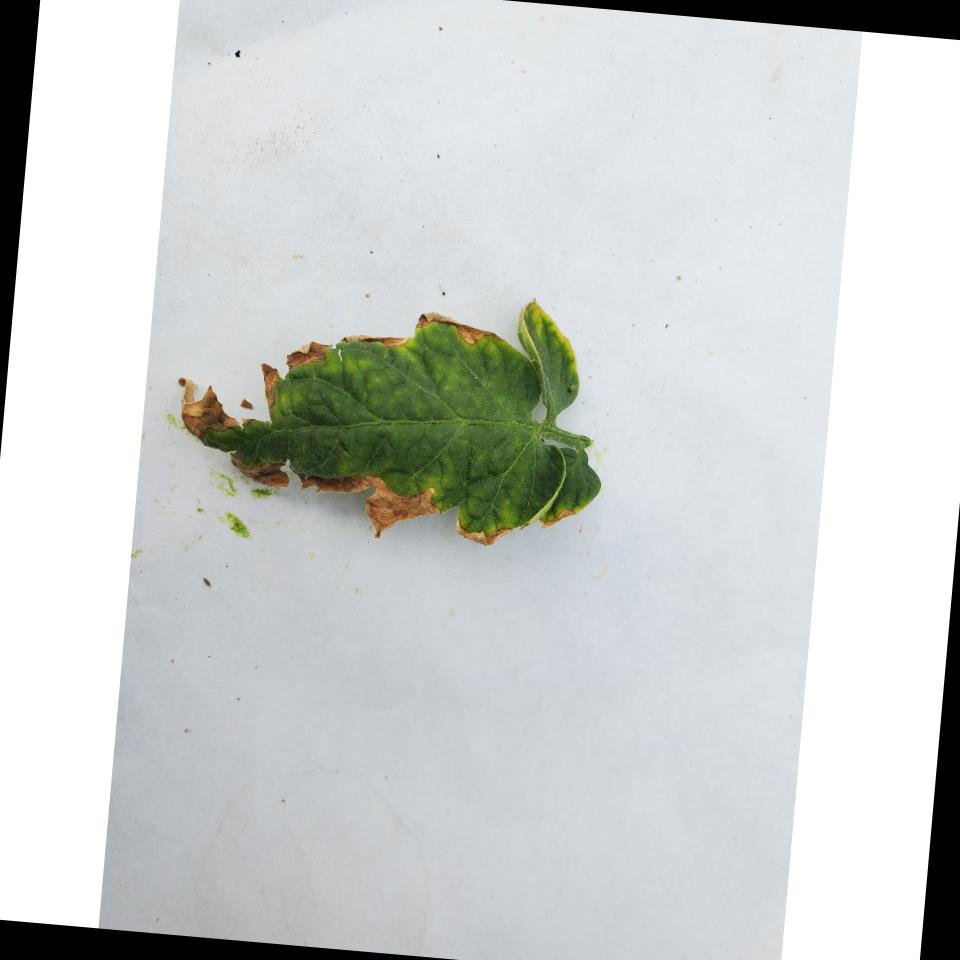tomato_bacterial_blight: (157, 300, 632, 554)
